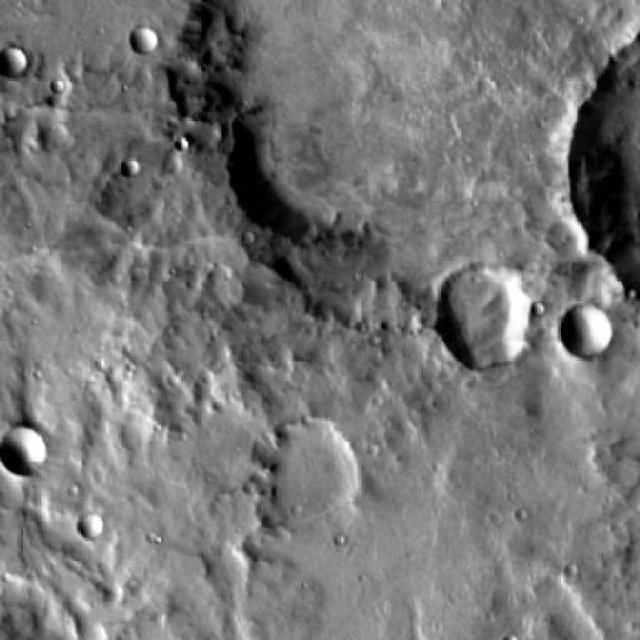crater: (197, 0, 640, 340), (270, 417, 372, 518), (450, 264, 552, 365), (564, 253, 633, 322), (558, 306, 614, 360), (0, 427, 49, 476), (0, 44, 29, 74), (131, 25, 158, 53), (79, 513, 103, 538), (119, 158, 138, 176)
